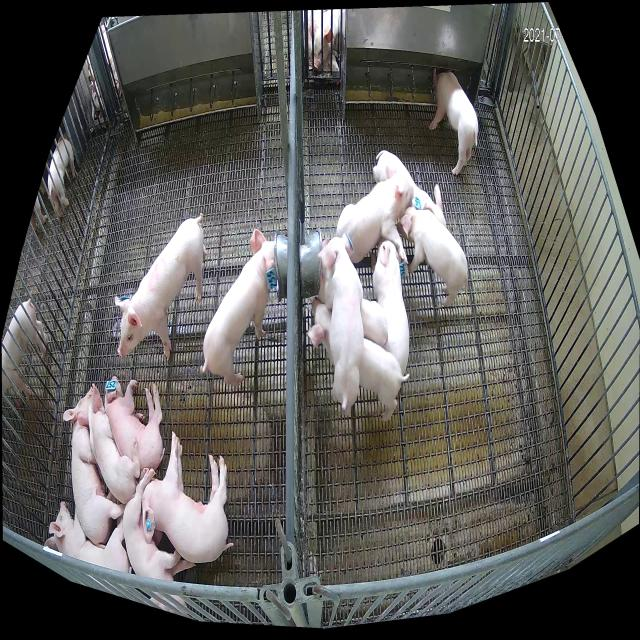pig: (116, 218, 207, 363), (306, 298, 409, 421), (142, 431, 234, 564), (201, 229, 277, 386), (123, 466, 196, 617), (62, 387, 125, 545), (318, 232, 363, 414), (336, 159, 413, 264), (396, 196, 468, 307), (76, 381, 140, 504), (318, 238, 388, 347), (44, 500, 131, 573), (105, 377, 164, 472), (373, 150, 446, 226), (429, 68, 478, 176), (371, 239, 410, 372)
